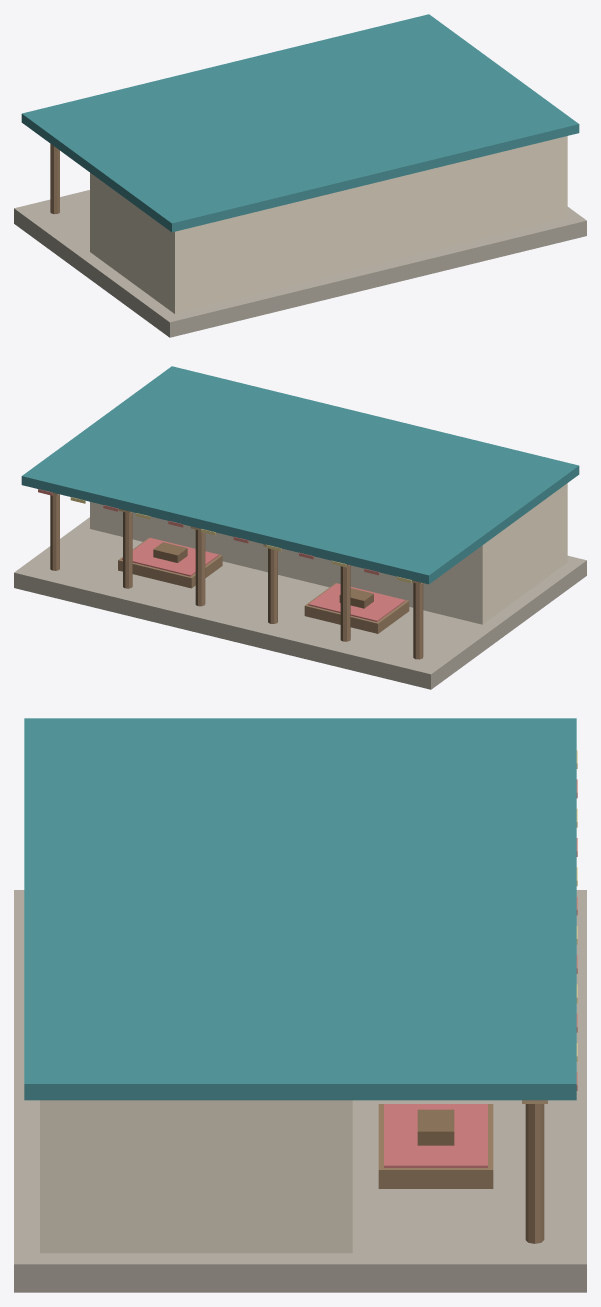
Rendered from chaikhana.glb.
The picture shows the model from 3 angles, top to bottom: view 1: azimuth 30°, elevation 25°; view 2: azimuth 150°, elevation 25°; view 3: azimuth 270°, elevation 25°; orthographic projection. The views are drawn at different scales.
Parts seen in each view (by area): view 1: Chaikhana; view 2: Chaikhana; view 3: Chaikhana.
Part boxes in pixels (x1=…): Chaikhana: x1=14, y1=14, x2=586, y2=337; Chaikhana: x1=14, y1=366, x2=586, y2=689; Chaikhana: x1=14, y1=718, x2=586, y2=1292.
Size of the model in its own units: 17 by 4.33 by 11.
